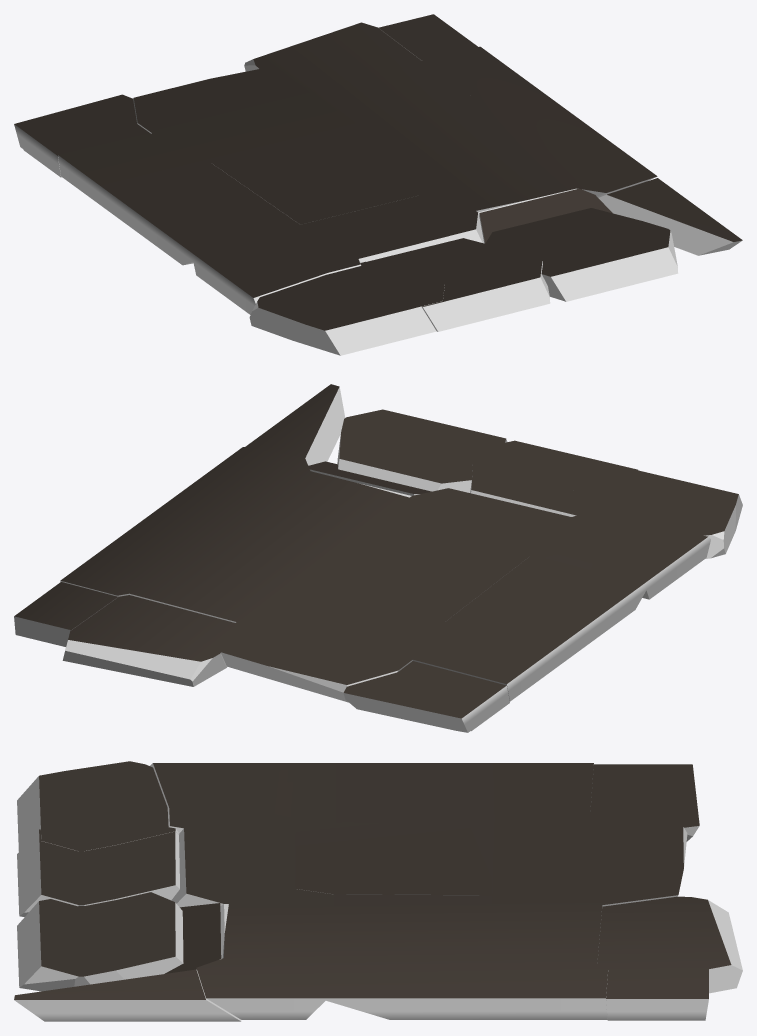
Rendered from SM_DamageConcrete_001.fbx.
3 views of the same model, one above another, from view 1: azimuth 30°, elevation 25°; view 2: azimuth 150°, elevation 25°; view 3: azimuth 270°, elevation 25° (orthographic). The views are drawn at different scales.
Visible parts, largest first — view 1: SM_DamageConcrete_026.001, SM_DamageConcrete_003.001, SM_DamageConcrete_025.001, SM_DamageConcrete_004.001, SM_DamageConcrete_024.001, SM_DamageConcrete_018.001, SM_DamageConcrete_010.001, SM_DamageConcrete_002.001, SM_DamageConcrete_021.001, SM_DamageConcrete_016.001, SM_DamageConcrete_013.001, SM_DamageConcrete_023.001 (+12 smaller); view 2: SM_DamageConcrete_003.001, SM_DamageConcrete_004.001, SM_DamageConcrete_016.001, SM_DamageConcrete_018.001, SM_DamageConcrete_025.001, SM_DamageConcrete_026.001, SM_DamageConcrete_002.001, SM_DamageConcrete_010.001, SM_DamageConcrete_021.001, SM_DamageConcrete_013.001, SM_DamageConcrete_024.001, SM_DamageConcrete_023.001 (+12 smaller); view 3: SM_DamageConcrete_003.001, SM_DamageConcrete_025.001, SM_DamageConcrete_004.001, SM_DamageConcrete_026.001, SM_DamageConcrete_018.001, SM_DamageConcrete_016.001, SM_DamageConcrete_002.001, SM_DamageConcrete_024.001, SM_DamageConcrete_010.001, SM_DamageConcrete_021.001, SM_DamageConcrete_011.001, SM_DamageConcrete_020.001 (+13 smaller).
Part boxes in pixels (x1,y1,x2,y2): SM_DamageConcrete_026.001: (249,261,444,355); SM_DamageConcrete_003.001: (211,129,419,224); SM_DamageConcrete_025.001: (485,208,678,301); SM_DamageConcrete_004.001: (110,163,295,265); SM_DamageConcrete_024.001: (367,238,550,331); SM_DamageConcrete_018.001: (133,69,315,138); SM_DamageConcrete_010.001: (290,195,483,262); SM_DamageConcrete_002.001: (348,101,537,176); SM_DamageConcrete_021.001: (312,65,479,131); SM_DamageConcrete_016.001: (244,22,421,88); SM_DamageConcrete_013.001: (193,236,338,314); SM_DamageConcrete_023.001: (58,133,211,215); SM_DamageConcrete_003.001: (305,526,529,622); SM_DamageConcrete_004.001: (446,558,646,660); SM_DamageConcrete_016.001: (62,595,235,686); SM_DamageConcrete_018.001: (220,612,414,702); SM_DamageConcrete_025.001: (337,409,507,492); SM_DamageConcrete_026.001: (571,465,742,558); SM_DamageConcrete_002.001: (175,510,372,586); SM_DamageConcrete_010.001: (405,488,571,559); SM_DamageConcrete_021.001: (129,552,308,622); SM_DamageConcrete_013.001: (557,521,710,599); SM_DamageConcrete_024.001: (470,440,637,516); SM_DamageConcrete_023.001: (412,622,566,701); SM_DamageConcrete_003.001: (295,821,491,895); SM_DamageConcrete_025.001: (17,892,183,991); SM_DamageConcrete_004.001: (290,763,487,823); SM_DamageConcrete_026.001: (17,761,179,851); SM_DamageConcrete_018.001: (564,814,687,906); SM_DamageConcrete_016.001: (597,896,742,993); SM_DamageConcrete_002.001: (347,894,483,969); SM_DamageConcrete_024.001: (17,829,179,916); SM_DamageConcrete_010.001: (171,814,304,907); SM_DamageConcrete_021.001: (479,893,602,967); SM_DamageConcrete_011.001: (14,969,241,1021); SM_DamageConcrete_020.001: (470,963,608,1019).
Bounding box in the file's own units: 16.31 × 0.7844 × 20.89.
